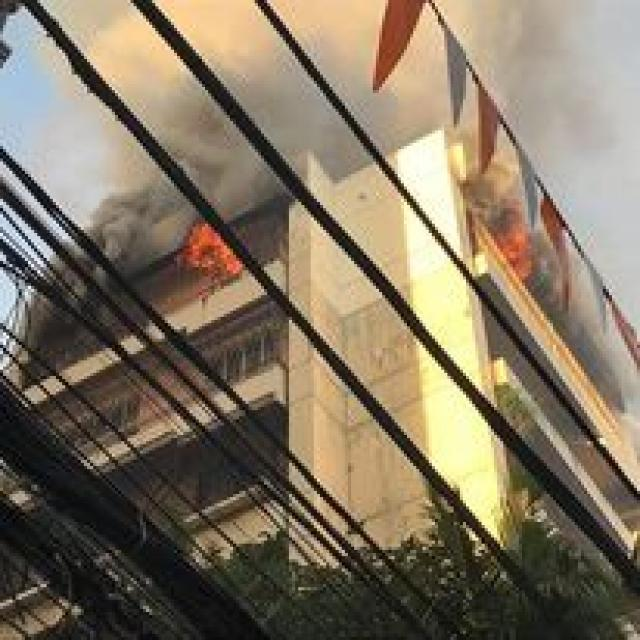Fire: (190, 220, 250, 293)
Smoke: (260, 47, 402, 172), (173, 99, 275, 228), (100, 178, 191, 260)
